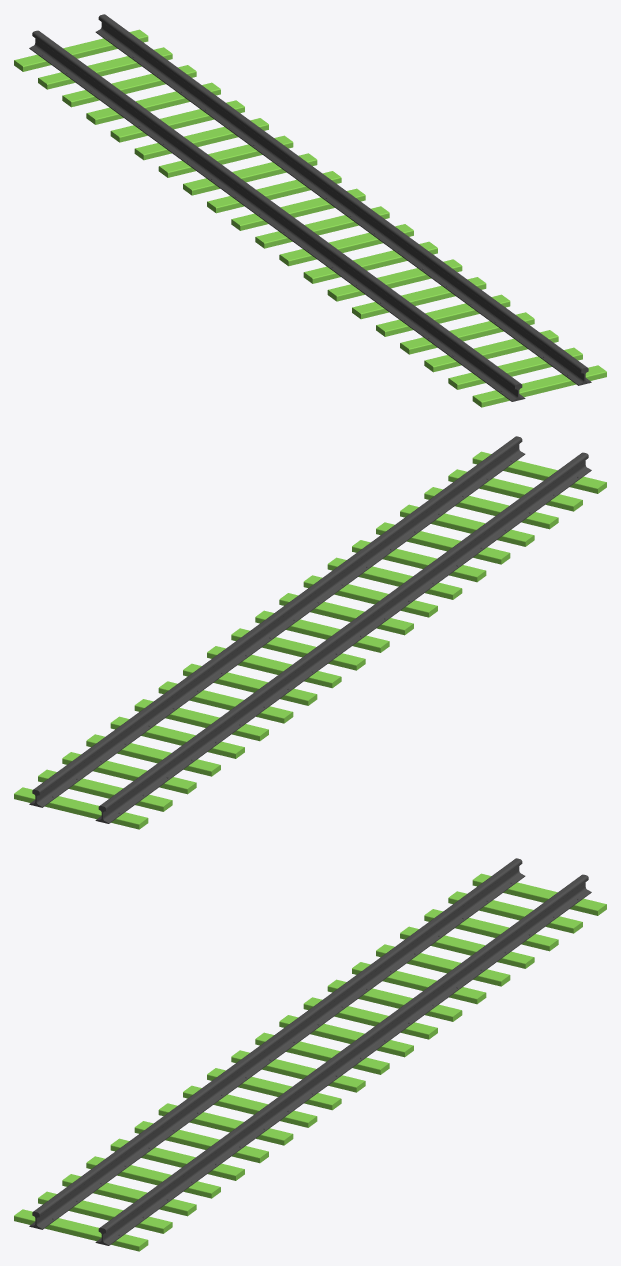
Rendered from railway.obj.
The picture shows the model from 3 angles, top to bottom: view 1: azimuth 30°, elevation 25°; view 2: azimuth 150°, elevation 25°; view 3: azimuth 330°, elevation 25°; orthographic projection.
Parts seen in each view (by area): view 1: Box001, railway001, railway002; view 2: Box001, railway001, railway002; view 3: Box001, railway001, railway002.
Part boxes in pixels (x1=…): Box001: x1=14, y1=29, x2=606, y2=407; railway001: x1=29, y1=30, x2=525, y2=401; railway002: x1=95, y1=14, x2=591, y2=385; Box001: x1=14, y1=451, x2=606, y2=829; railway001: x1=95, y1=452, x2=591, y2=823; railway002: x1=29, y1=436, x2=525, y2=807; Box001: x1=14, y1=873, x2=606, y2=1251; railway001: x1=29, y1=858, x2=525, y2=1229; railway002: x1=95, y1=874, x2=591, y2=1245.
Bounding box in the file's own units: 47.24 × 7.83 × 315.
